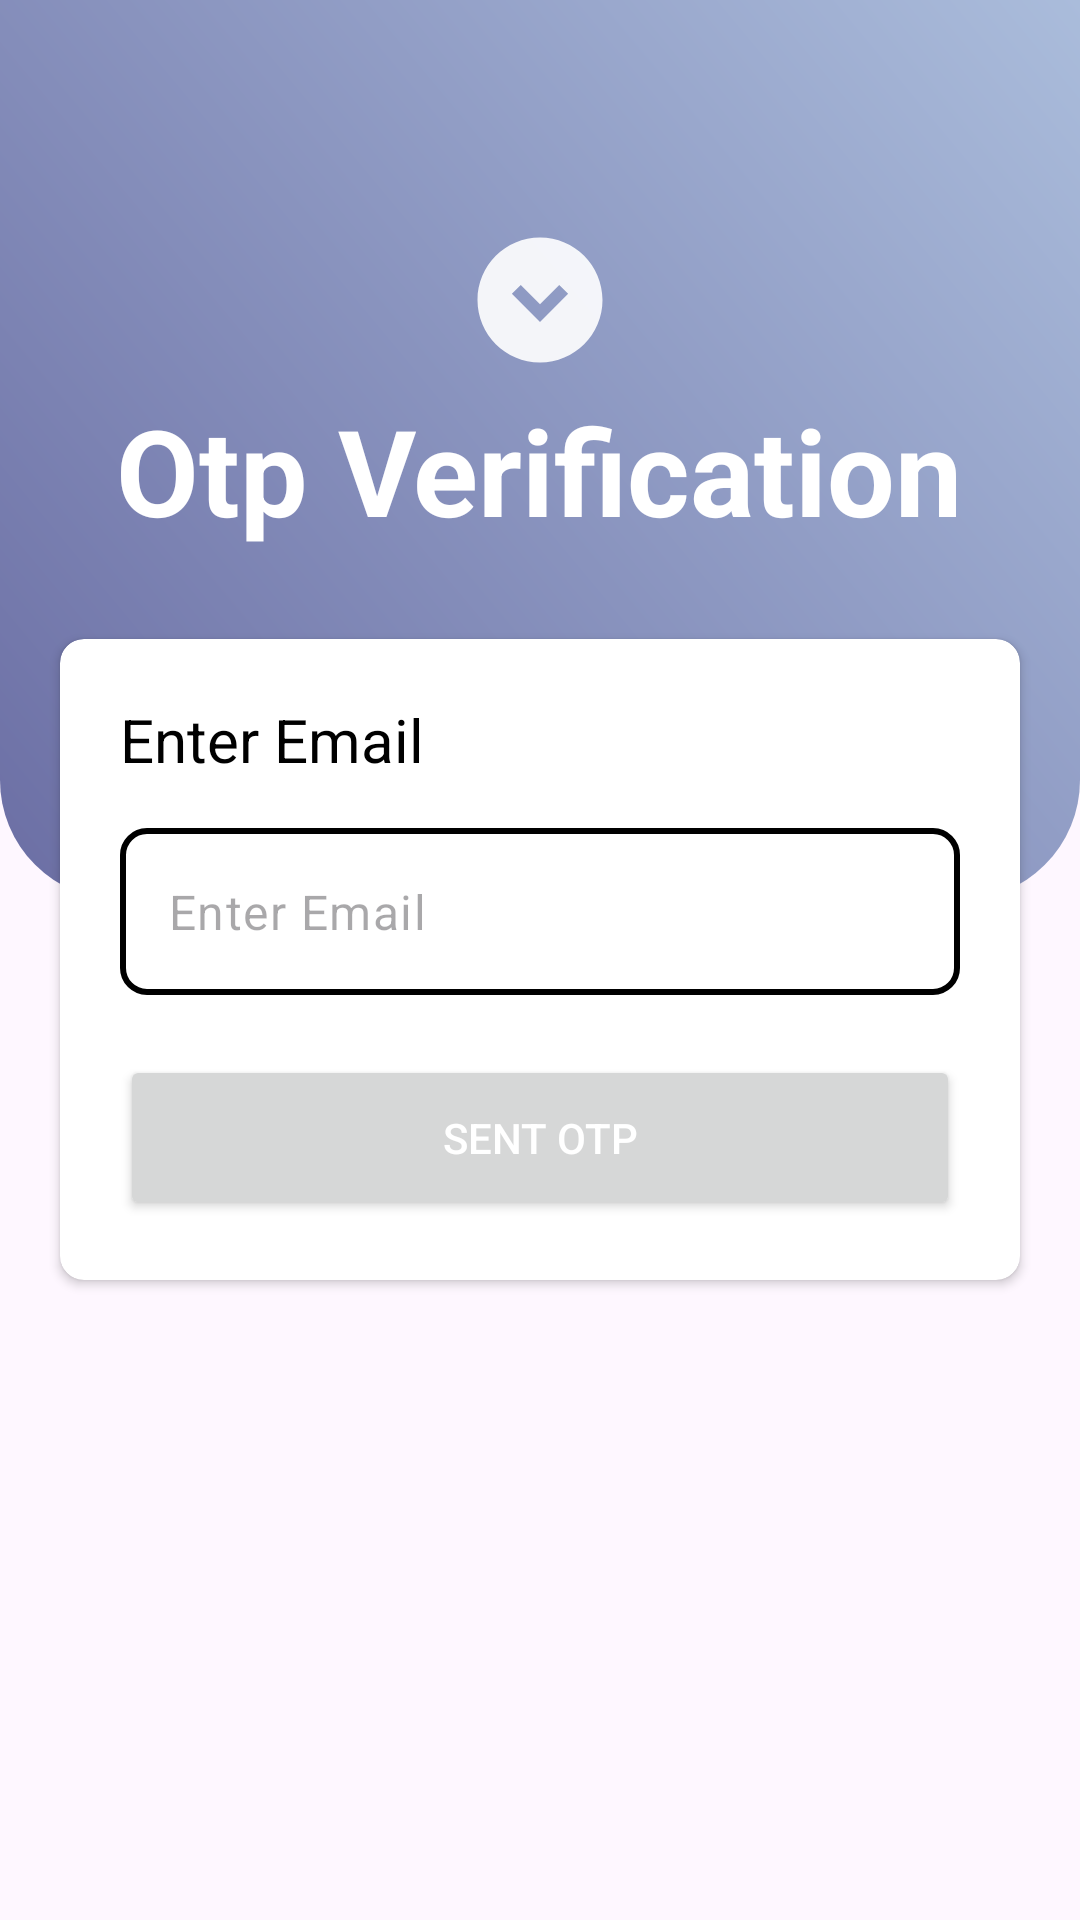

Point at icon controls on the screen. Image size 1080px x 1920px, points as (x=x, y=y).
circledown: (x=540, y=300)
